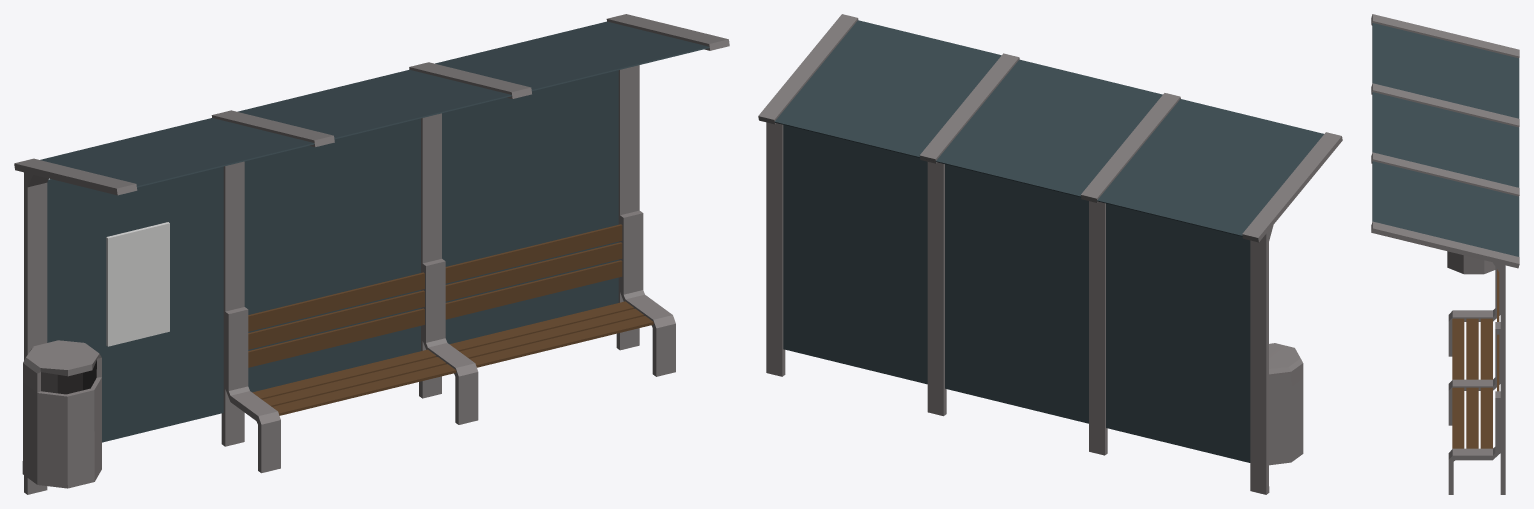
Rendered from props_bus-stop.fbx.
3 renders of one model, left to right at view 1: azimuth 30°, elevation 25°; view 2: azimuth 150°, elevation 25°; view 3: azimuth 270°, elevation 25°, orthographic. The views are drawn at different scales.
Visible parts, largest first — view 1: props_bus_stop; view 2: props_bus_stop; view 3: props_bus_stop.
Part boxes in pixels (<box>): props_bus_stop: <box>14,14,729,494</box>; props_bus_stop: <box>758,14,1342,494</box>; props_bus_stop: <box>1371,14,1519,494</box>.
Bounding box in the file's own units: 200 × 113 × 57.09.
